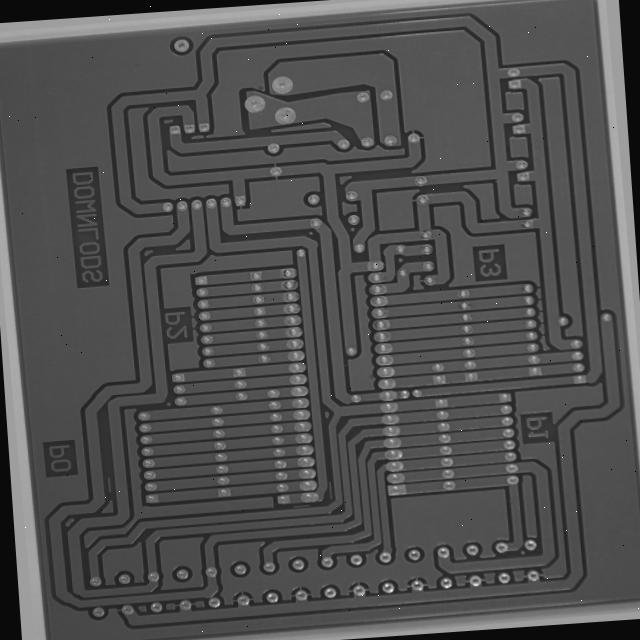spurious_copper: (92, 471, 111, 494), (320, 479, 335, 504), (285, 503, 309, 511)
